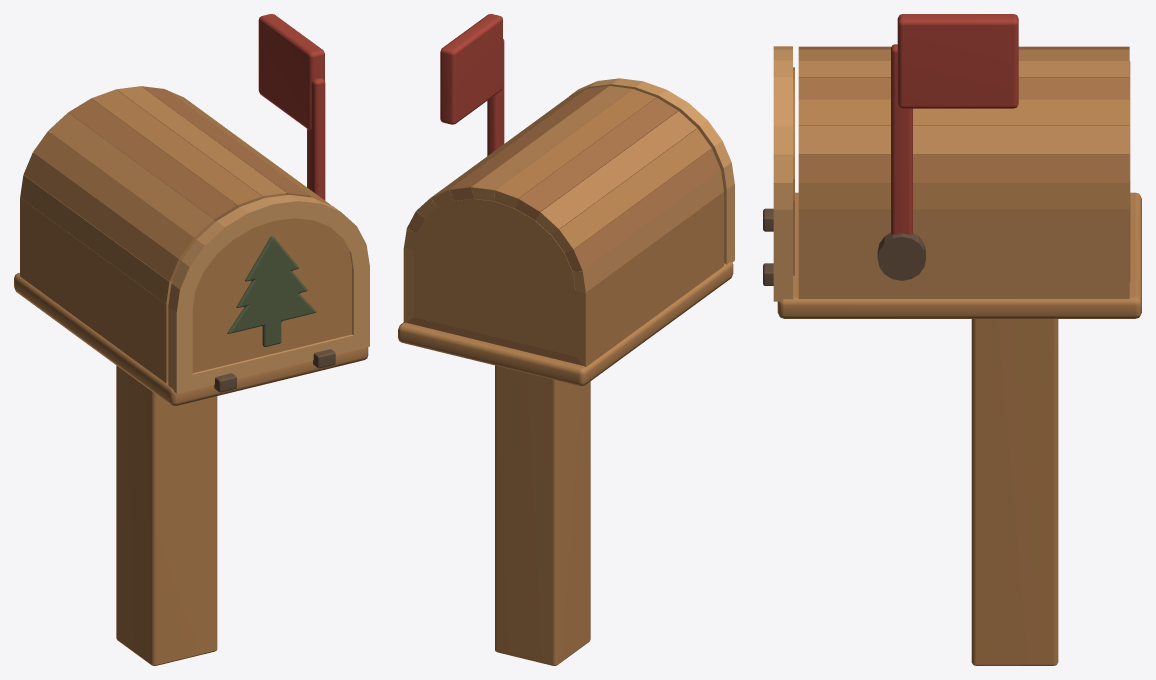
File: elm_mailbox.glb
3 renders of one model, left to right at view 1: azimuth 30°, elevation 25°; view 2: azimuth 150°, elevation 25°; view 3: azimuth 270°, elevation 25°, orthographic. The views are drawn at different scales.
Visible parts, largest first — view 1: 方木支柱, 箱门木板, 拱形门框, 箱身木板 15, 信旗, 箱底托板, 箱身木板 11, 箱身木板 12, 松树浮雕徽记, 箱身木板 10, 箱身木板 13, 箱身木板 09 (+5 smaller); view 2: 方木支柱, 箱背, 箱身木板 15, 箱底托板, 信旗, 箱身木板 11, 箱身木板 12, 箱身木板 10, 箱身木板 13, 箱身木板 09, 箱身木板 14, 箱身木板 08 (+6 smaller); view 3: 方木支柱, 箱身木板 02, 信旗, 箱底托板, 箱身木板 04, 箱身木板 05, 箱身木板 03, 箱身木板 06, 拱形门框, 箱身木板 07, 箱身木板 08, 旗杆 (+3 smaller).
Boxes of the visible parts, x1,y1,x2,y2 form: 方木支柱: [116, 365, 217, 665]; 箱门木板: [192, 218, 352, 373]; 拱形门框: [168, 195, 369, 393]; 箱身木板 15: [20, 197, 168, 383]; 信旗: [258, 14, 324, 130]; 箱底托板: [14, 273, 368, 405]; 箱身木板 11: [48, 112, 215, 239]; 箱身木板 12: [33, 131, 196, 259]; 松树浮雕徽记: [227, 236, 316, 346]; 箱身木板 10: [68, 98, 237, 221]; 箱身木板 13: [23, 152, 181, 281]; 箱身木板 09: [91, 89, 262, 207]; 方木支柱: [495, 365, 590, 665]; 箱背: [414, 198, 575, 356]; 箱身木板 15: [575, 191, 723, 367]; 箱底托板: [398, 262, 733, 385]; 信旗: [440, 14, 502, 124]; 箱身木板 11: [535, 111, 696, 235]; 箱身木板 12: [552, 128, 711, 252]; 箱身木板 10: [515, 97, 677, 220]; 箱身木板 13: [565, 148, 720, 271]; 箱身木板 09: [494, 89, 656, 208]; 箱身木板 14: [572, 170, 723, 292]; 箱身木板 08: [471, 86, 632, 201]; 方木支柱: [971, 319, 1058, 665]; 箱身木板 02: [798, 209, 1129, 298]; 信旗: [897, 14, 1018, 108]; 箱底托板: [777, 192, 1141, 318]; 箱身木板 04: [798, 154, 1129, 182]; 箱身木板 05: [798, 126, 1129, 154]; 箱身木板 03: [798, 182, 1129, 209]; 箱身木板 06: [798, 99, 1129, 125]; 拱形门框: [773, 46, 792, 301]; 箱身木板 07: [798, 77, 1129, 99]; 箱身木板 08: [798, 60, 1129, 77]; 旗杆: [891, 44, 912, 234].
Size of the model in its own units: 0.4873 by 1.34 by 0.6696.
